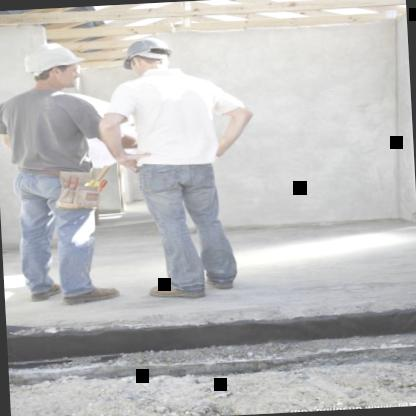helmet: (13, 32, 92, 100), (112, 34, 178, 82)
